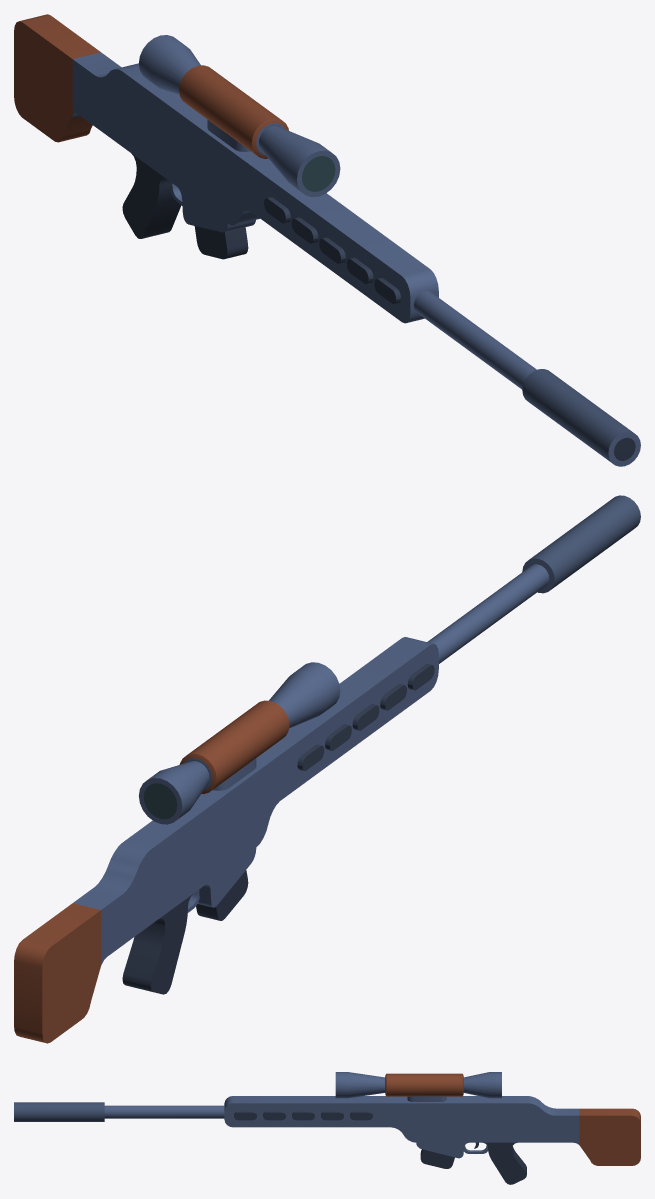
The model's file is Rifle.fbx.
The picture shows the model from 3 angles, top to bottom: view 1: azimuth 30°, elevation 25°; view 2: azimuth 150°, elevation 25°; view 3: azimuth 270°, elevation 25°; orthographic projection. The views are drawn at different scales.
Visible parts, largest first — view 1: Cube.006; view 2: Cube.006; view 3: Cube.006.
Part boxes in pixels (x1,y1,x2,y2): Cube.006: (14, 14, 640, 466); Cube.006: (14, 495, 640, 1043); Cube.006: (14, 1072, 640, 1184).
Bounding box in the file's own units: 0.1442 × 0.6513 × 3.42.
